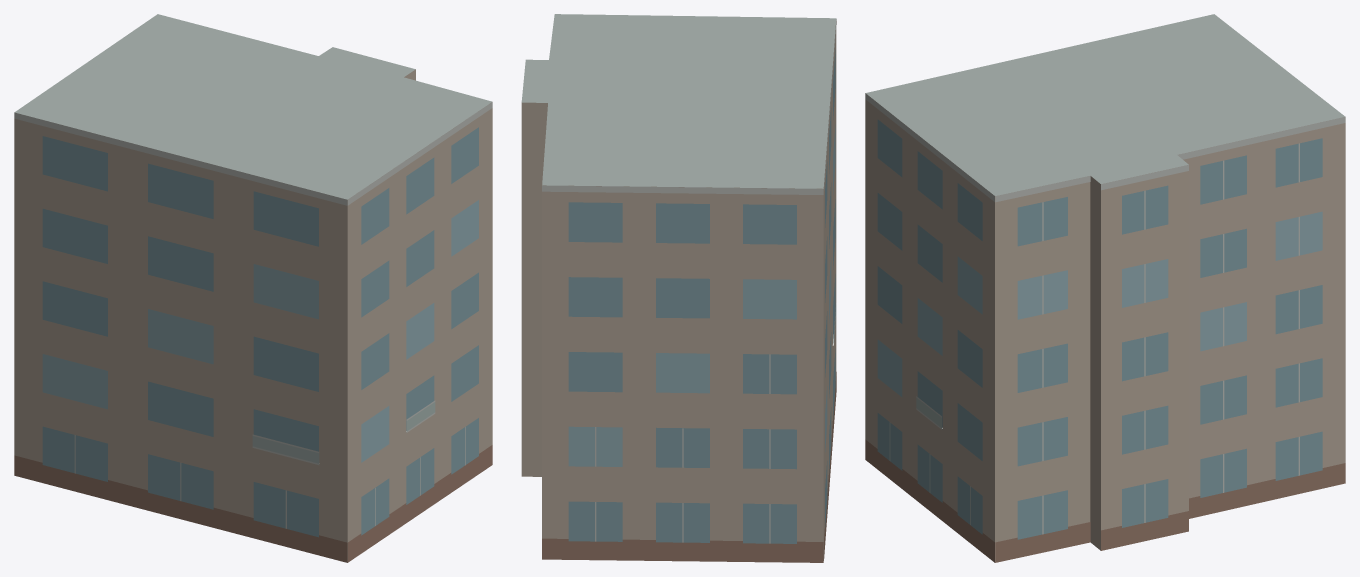
Rendered from survey-upis-32882602.glb.
3 renders of one model, left to right at view 1: azimuth 30°, elevation 25°; view 2: azimuth 150°, elevation 25°; view 3: azimuth 270°, elevation 25°, orthographic. The views are drawn at different scales.
Visible parts, largest first — view 1: survey-upis-32882602.tmp; view 2: survey-upis-32882602.tmp; view 3: survey-upis-32882602.tmp.
Part boxes in pixels (bbox=[...]): survey-upis-32882602.tmp: bbox=[14, 14, 492, 562]; survey-upis-32882602.tmp: bbox=[521, 14, 836, 562]; survey-upis-32882602.tmp: bbox=[865, 14, 1345, 562].
Size of the model in its own units: 15.41 by 14.45 by 17.15.
